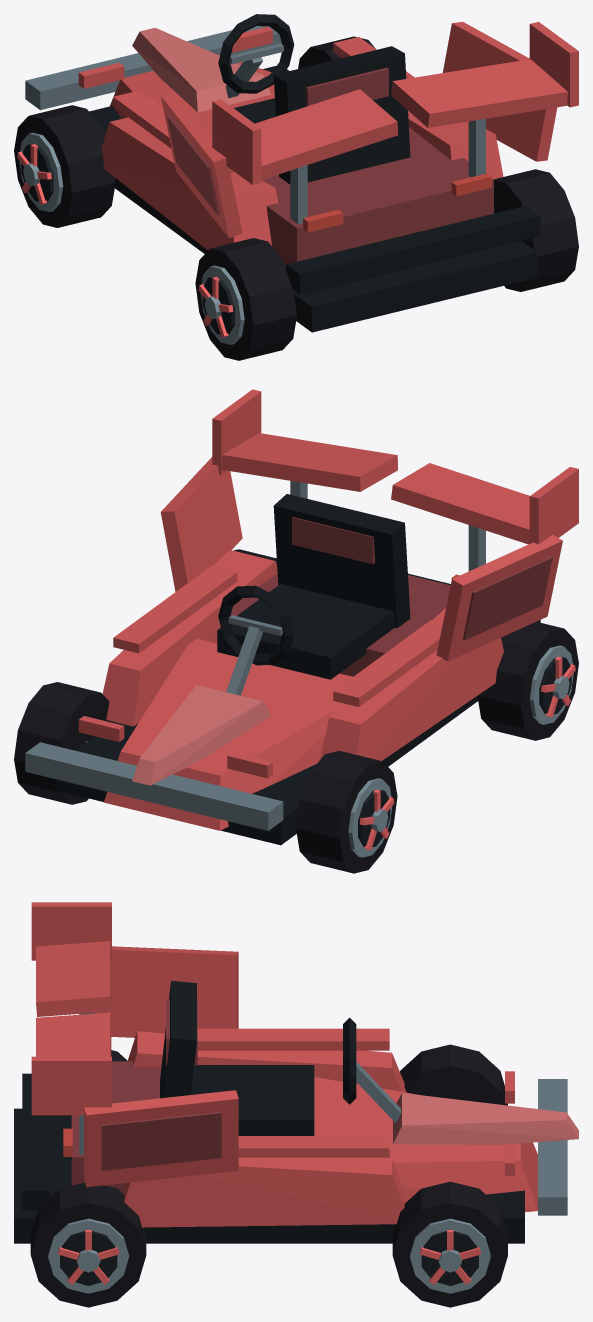
Rendered from kart.glb.
3 views of the same model, one above another, from view 1: azimuth 30°, elevation 25°; view 2: azimuth 150°, elevation 25°; view 3: azimuth 270°, elevation 25° (orthographic).
Parts seen in each view (by area): view 1: chassis, wheel-rear-left, wheel-front-left, wheel-rear-right, wheel-front-right; view 2: chassis, wheel-front-left, wheel-rear-left, wheel-front-right; view 3: chassis, wheel-front-right, wheel-rear-right, wheel-front-left.
Part boxes in pixels (x1,y1,x2,y2): chassis: [25, 14, 578, 332]; wheel-rear-left: [195, 238, 296, 360]; wheel-front-left: [14, 105, 115, 227]; wheel-rear-right: [493, 169, 578, 291]; wheel-front-right: [298, 36, 375, 68]; chassis: [25, 389, 578, 845]; wheel-front-left: [296, 750, 397, 873]; wheel-rear-left: [477, 621, 578, 740]; wheel-front-right: [14, 682, 113, 804]; chassis: [14, 902, 578, 1243]; wheel-front-right: [392, 1181, 507, 1307]; wheel-rear-right: [30, 1182, 146, 1307]; wheel-front-left: [400, 1044, 507, 1105].
Size of the model in its own units: 2.18 by 1.46 by 3.03.
